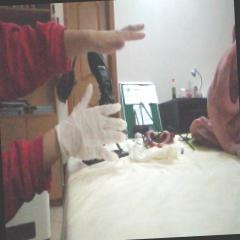gloved: (54, 81, 128, 163)
not-gloved: (76, 25, 148, 57)
